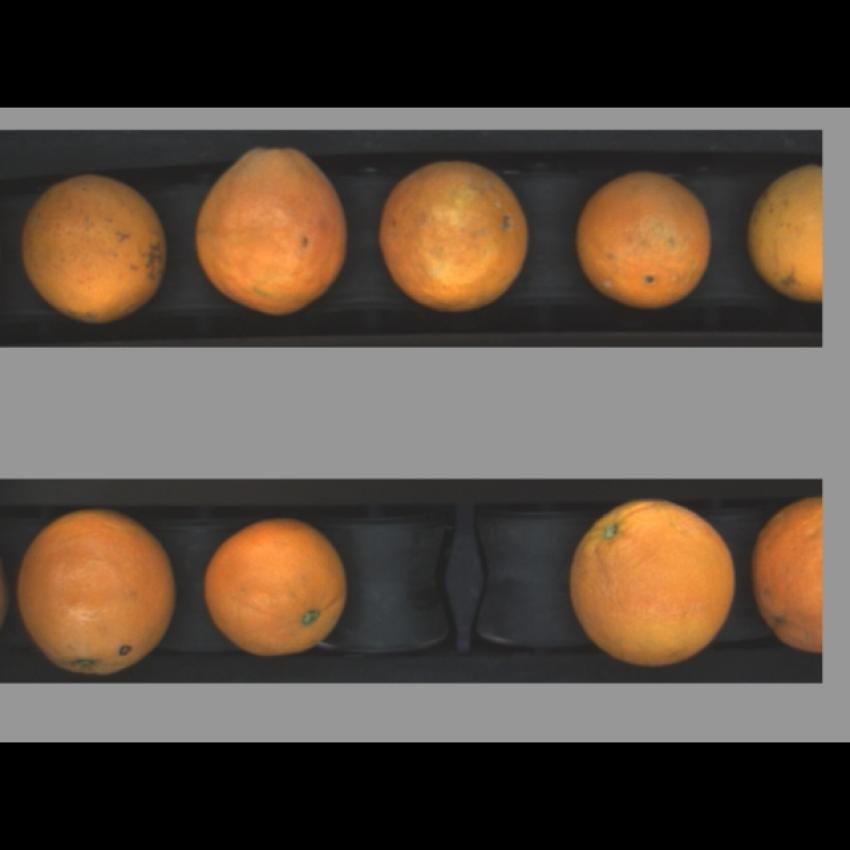Buen estado: (565, 494, 741, 668), (204, 513, 349, 658)
Mal estado: (13, 502, 184, 680), (188, 138, 352, 320), (372, 153, 540, 320), (16, 166, 172, 330), (571, 162, 720, 310), (751, 487, 823, 652), (744, 155, 821, 303)
